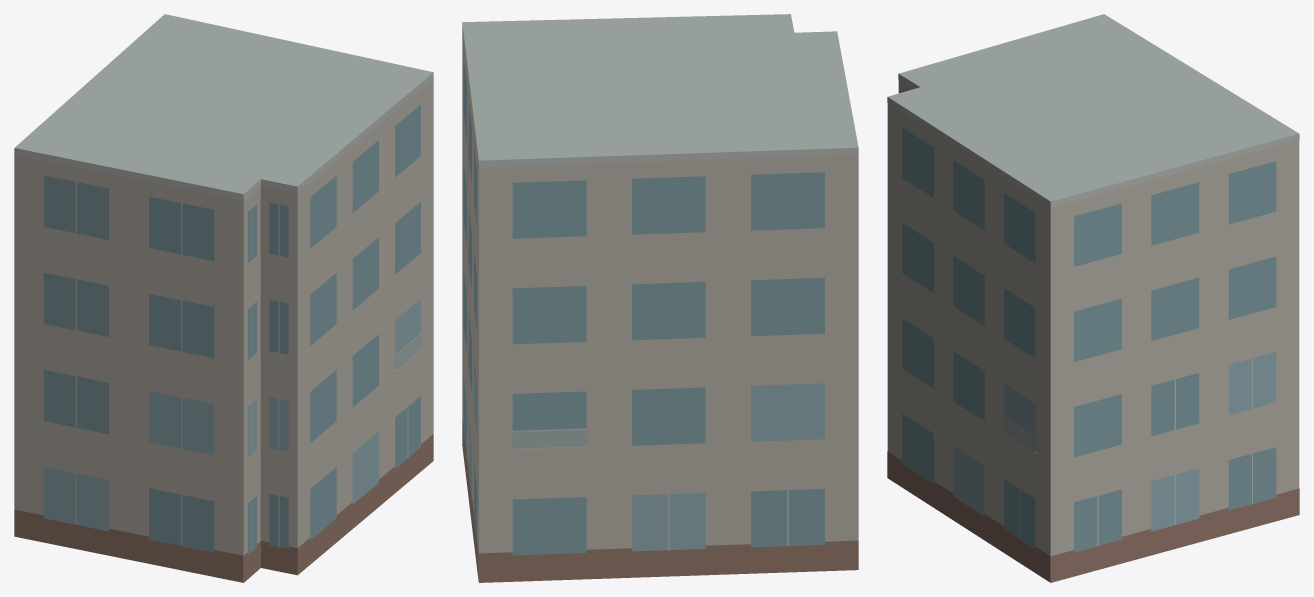
Rendered from survey-upis-32886079.glb.
The picture shows the model from 3 angles, left to right: view 1: azimuth 30°, elevation 25°; view 2: azimuth 150°, elevation 25°; view 3: azimuth 270°, elevation 25°; orthographic projection. The views are drawn at different scales.
Visible parts, largest first — view 1: survey-upis-32886079.tmp; view 2: survey-upis-32886079.tmp; view 3: survey-upis-32886079.tmp.
Part boxes in pixels (x1,y1,x2,y2): survey-upis-32886079.tmp: (14,14,433,582); survey-upis-32886079.tmp: (462,14,858,582); survey-upis-32886079.tmp: (887,14,1299,582).
Bounding box in the file's own units: 15.42 × 14.6 × 14.31.
